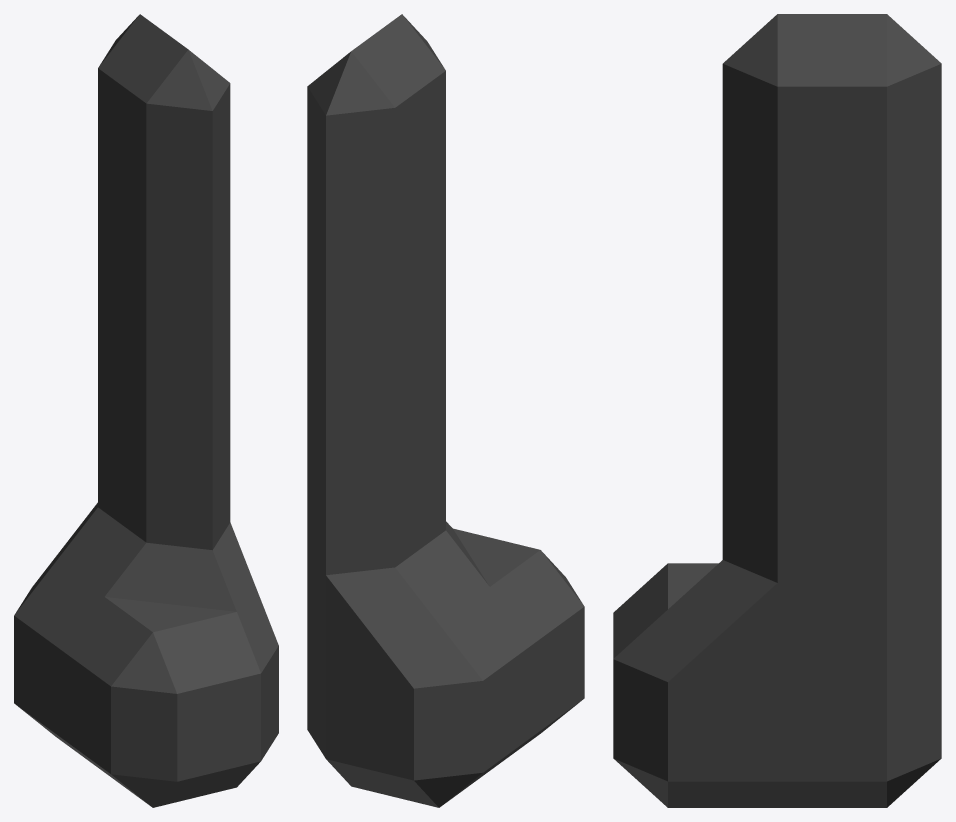
The model's file is Arm_L.glb.
3 views of the same model, side by side, from view 1: azimuth 30°, elevation 25°; view 2: azimuth 150°, elevation 25°; view 3: azimuth 270°, elevation 25° (orthographic). The views are drawn at different scales.
Visible parts, largest first — view 1: pl0; view 2: pl0; view 3: pl0.
Part boxes in pixels (left/top/right/bottom): pl0: left=14, top=14, right=278, bottom=807; pl0: left=307, top=14, right=584, bottom=807; pl0: left=613, top=14, right=941, bottom=807.
Size of the model in its own units: 0.2 by 0.8 by 0.3.
1 material, 1 textured.
